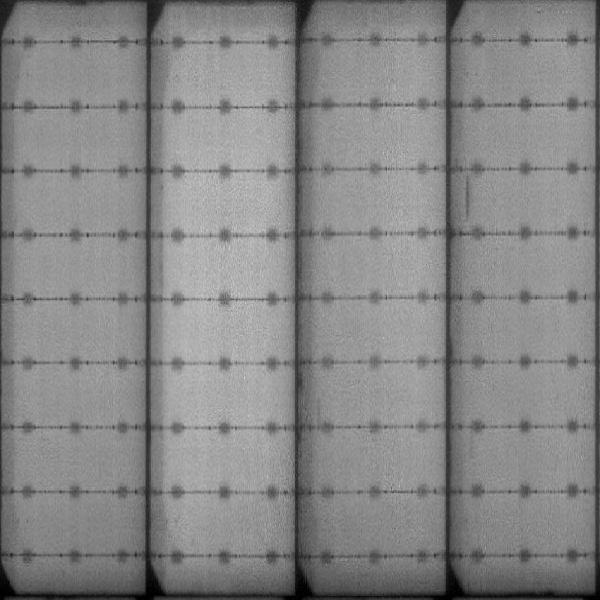scratch: (461, 173, 474, 220)
